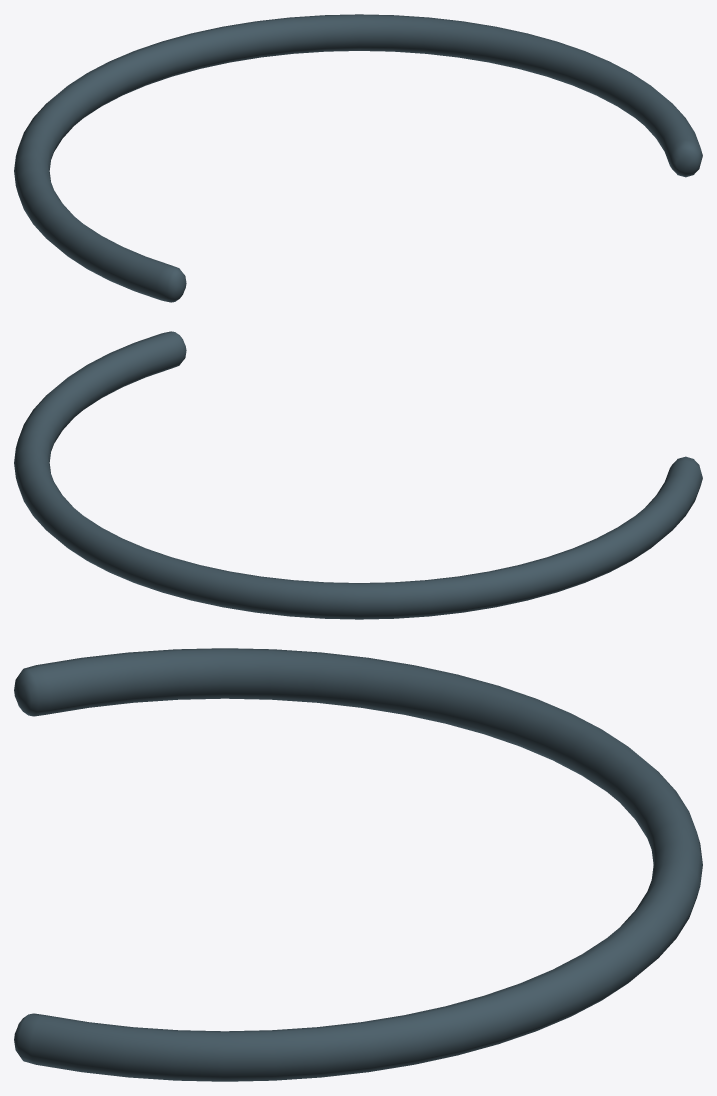
File: InputIdentifier_Trigger_Glass.fbx
3 views of the same model, one above another, from view 1: azimuth 30°, elevation 25°; view 2: azimuth 150°, elevation 25°; view 3: azimuth 270°, elevation 25° (orthographic). The views are drawn at different scales.
Parts seen in each view (by area): view 1: InputIdentifier_InnerGlass; view 2: InputIdentifier_InnerGlass; view 3: InputIdentifier_InnerGlass.
Boxes of the visible parts, x1,y1,x2,y2 form: InputIdentifier_InnerGlass: (14, 14, 702, 302); InputIdentifier_InnerGlass: (14, 331, 702, 619); InputIdentifier_InnerGlass: (14, 648, 702, 1081).
Size of the model in its own units: 14.16 by 0.7564 by 10.2.
